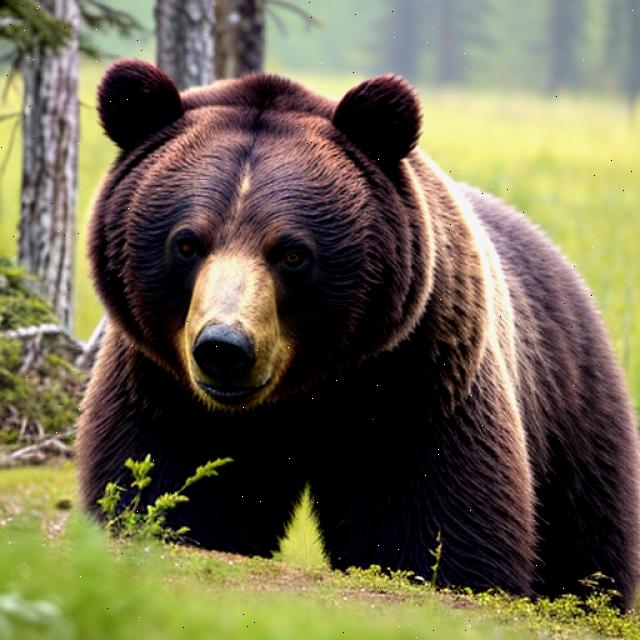bear: (82, 61, 549, 593)
